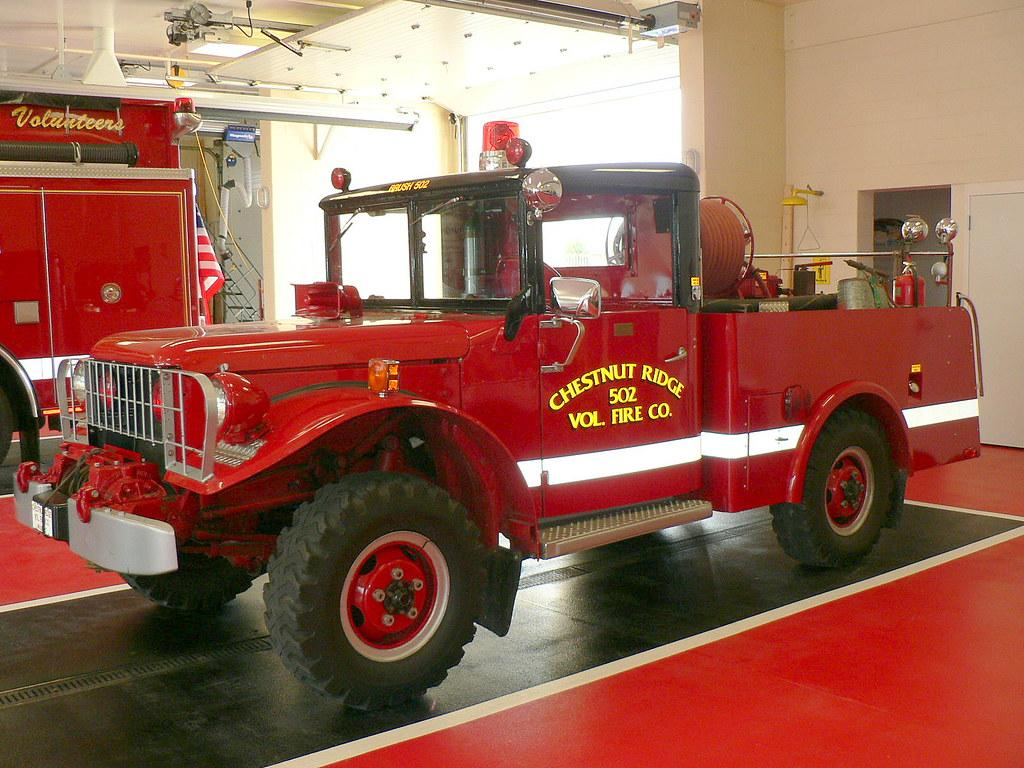Fire-engine: (10, 119, 984, 709), (0, 77, 225, 470)
